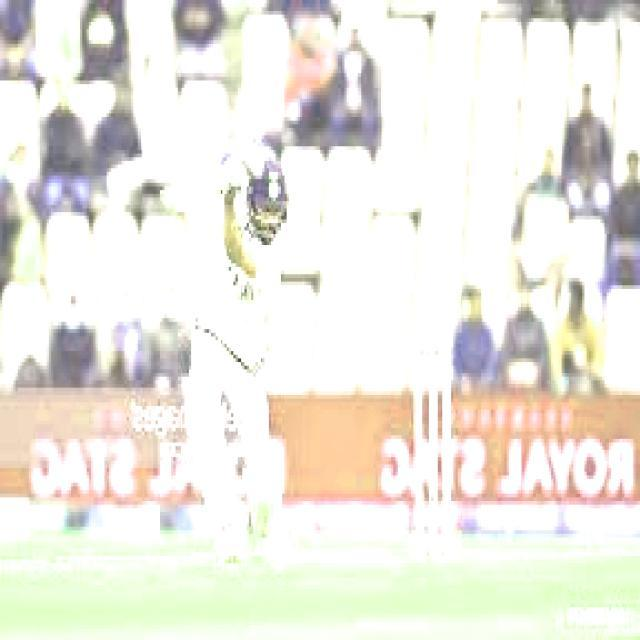bat: (104, 139, 235, 186)
